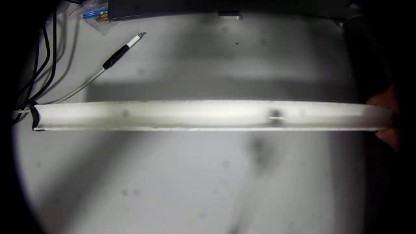gangzhu: (266, 106, 284, 126)
